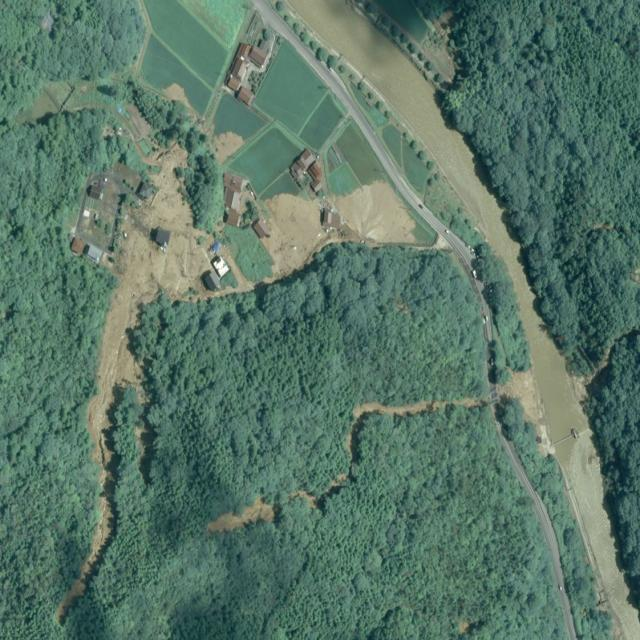landslide: (57, 219, 169, 621), (346, 398, 489, 456), (138, 191, 205, 288), (207, 497, 276, 533), (160, 145, 184, 192), (290, 490, 318, 509), (323, 474, 348, 494)
